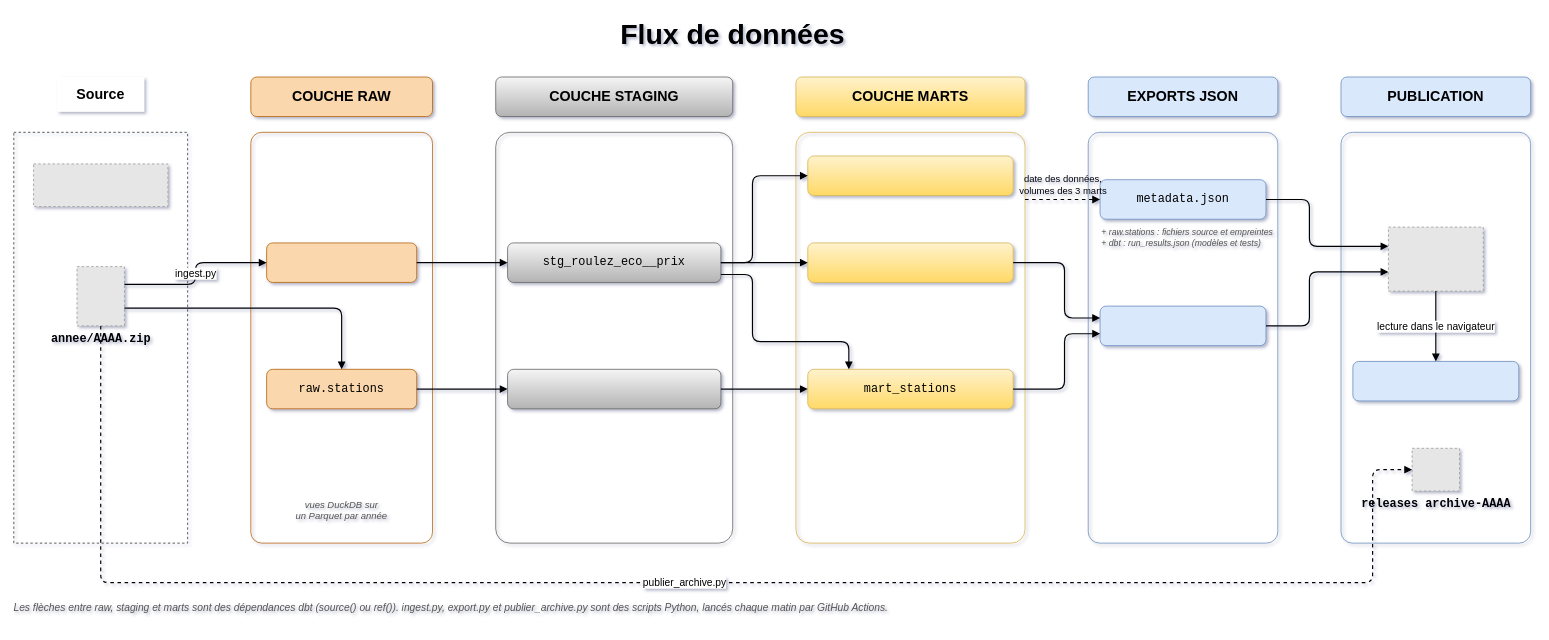
Some shapes in this 1549 by 640 pixel diagram are drawn without their labels. Grey dashed boxes stand in for pictures. Here are the shapes that lost their labels. From the top down, the box of each, then its label:
(807, 155, 1013, 196): mart_changements_prix
(266, 242, 417, 282): raw.prix
(807, 242, 1013, 282): mart_prix_actuels
(1099, 305, 1266, 346): prix_actuels.json
(507, 369, 721, 409): stg_roulez_eco__stations
(1352, 361, 1519, 401): Portfolio
